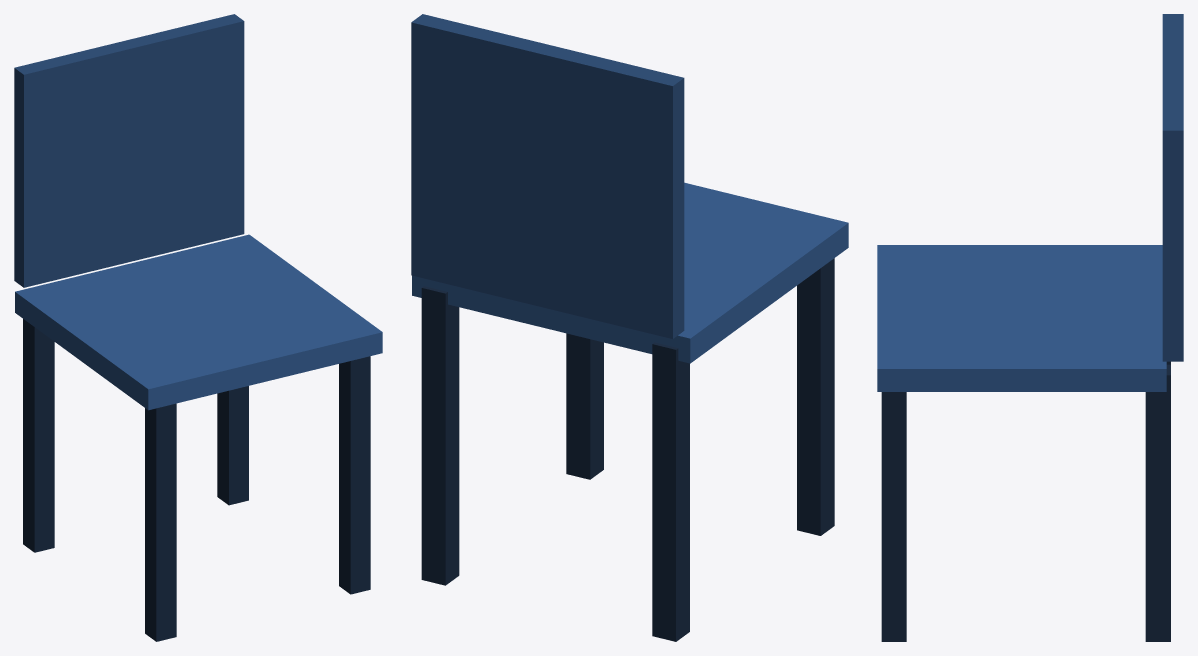
Rendered from chair-basic.glb.
3 views of the same model, side by side, from view 1: azimuth 30°, elevation 25°; view 2: azimuth 150°, elevation 25°; view 3: azimuth 270°, elevation 25° (orthographic). The views are drawn at different scales.
Parts seen in each view (by area): view 1: chair-basic; view 2: chair-basic; view 3: chair-basic.
Boxes of the visible parts, <box> form: chair-basic: <box>14,14,382,641</box>; chair-basic: <box>411,14,848,641</box>; chair-basic: <box>877,14,1183,641</box>.
Bounding box in the file's own units: 0.4267 × 0.823 × 0.445.
